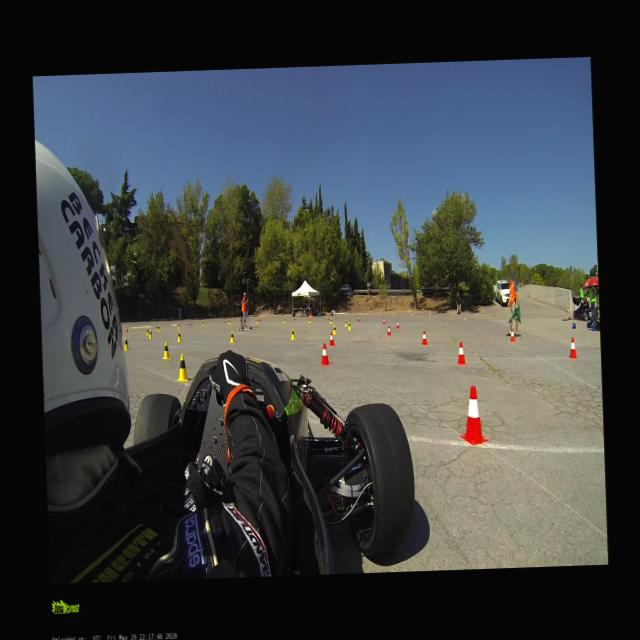orange_cone: (458, 384, 488, 444), (566, 336, 577, 360), (456, 342, 466, 364), (320, 343, 329, 366), (420, 330, 428, 346), (329, 332, 334, 346), (510, 328, 514, 342), (387, 325, 391, 335), (382, 316, 385, 324), (566, 308, 570, 314), (396, 320, 398, 329), (357, 316, 360, 322), (293, 314, 295, 320), (327, 314, 329, 320), (125, 326, 127, 332), (188, 320, 190, 326), (155, 322, 157, 328), (258, 315, 260, 321), (223, 317, 225, 323)
yellow_cone: (176, 353, 188, 381), (162, 340, 170, 359), (124, 336, 128, 349), (290, 328, 294, 339), (177, 331, 181, 342), (332, 324, 336, 334), (230, 330, 233, 342), (148, 329, 152, 338), (344, 318, 347, 326), (146, 326, 148, 336), (348, 321, 350, 330), (329, 317, 332, 323), (255, 317, 258, 323), (177, 322, 180, 328), (158, 324, 160, 332), (308, 317, 310, 323), (283, 317, 285, 323), (202, 320, 204, 326), (228, 318, 230, 324)
